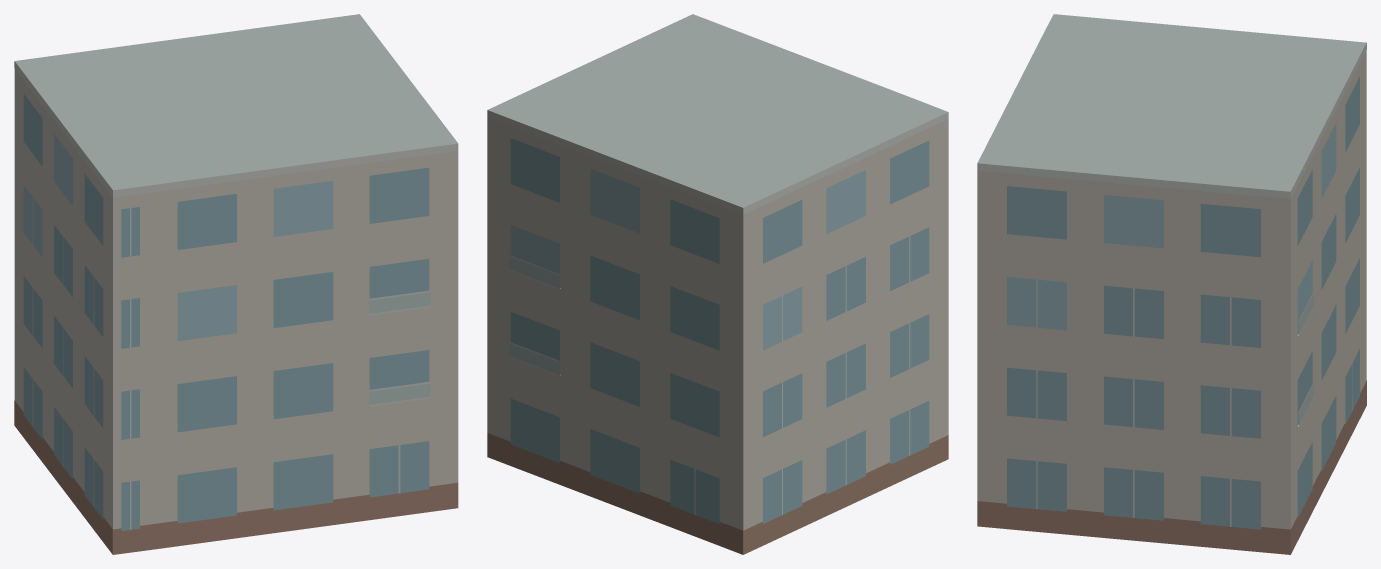
Rendered from residential-98c4eaec-29f8-4f44-91d5-1b64258b3177.glb.
3 renders of one model, left to right at view 1: azimuth 30°, elevation 25°; view 2: azimuth 150°, elevation 25°; view 3: azimuth 270°, elevation 25°, orthographic. The views are drawn at different scales.
Parts seen in each view (by area): view 1: residential-98c4eaec-29f8-4f44-91d5-1b64258b3177.tmp; view 2: residential-98c4eaec-29f8-4f44-91d5-1b64258b3177.tmp; view 3: residential-98c4eaec-29f8-4f44-91d5-1b64258b3177.tmp.
Part boxes in pixels (x1,y1,x2,y2): residential-98c4eaec-29f8-4f44-91d5-1b64258b3177.tmp: (14, 14, 458, 554); residential-98c4eaec-29f8-4f44-91d5-1b64258b3177.tmp: (487, 14, 948, 554); residential-98c4eaec-29f8-4f44-91d5-1b64258b3177.tmp: (977, 14, 1366, 554).
Size of the model in its own units: 12.82 by 12.2 by 11.87.
